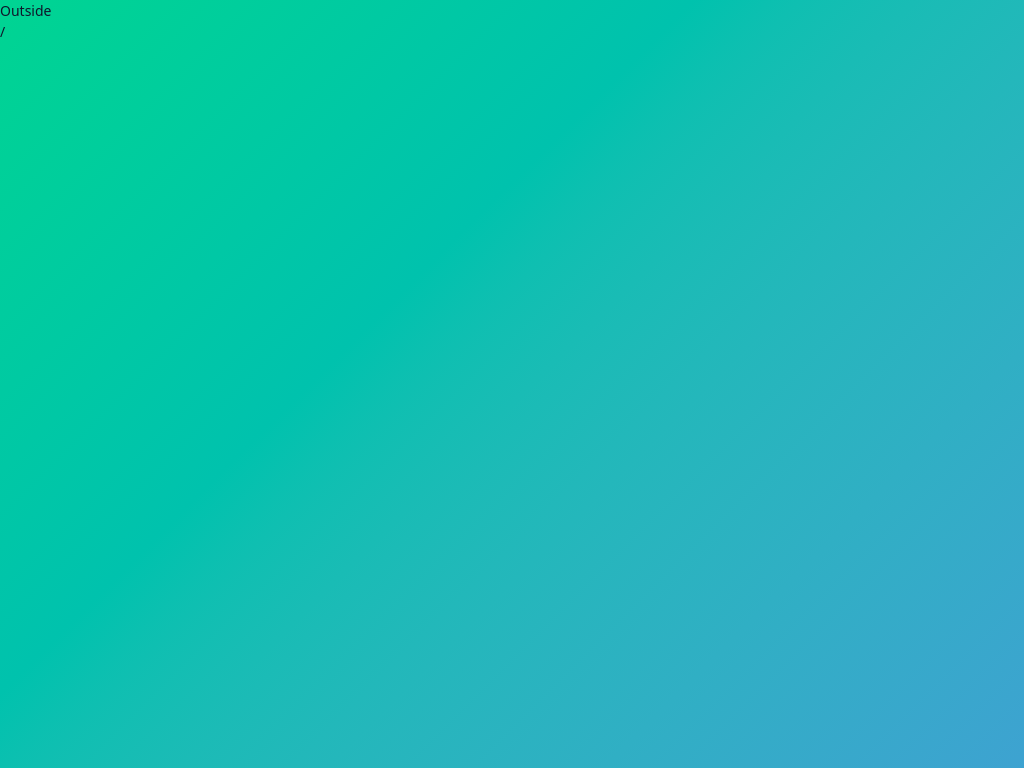
Scenario: SiteSearchModal › should navigate to the result selected with the arrow keys
Press k
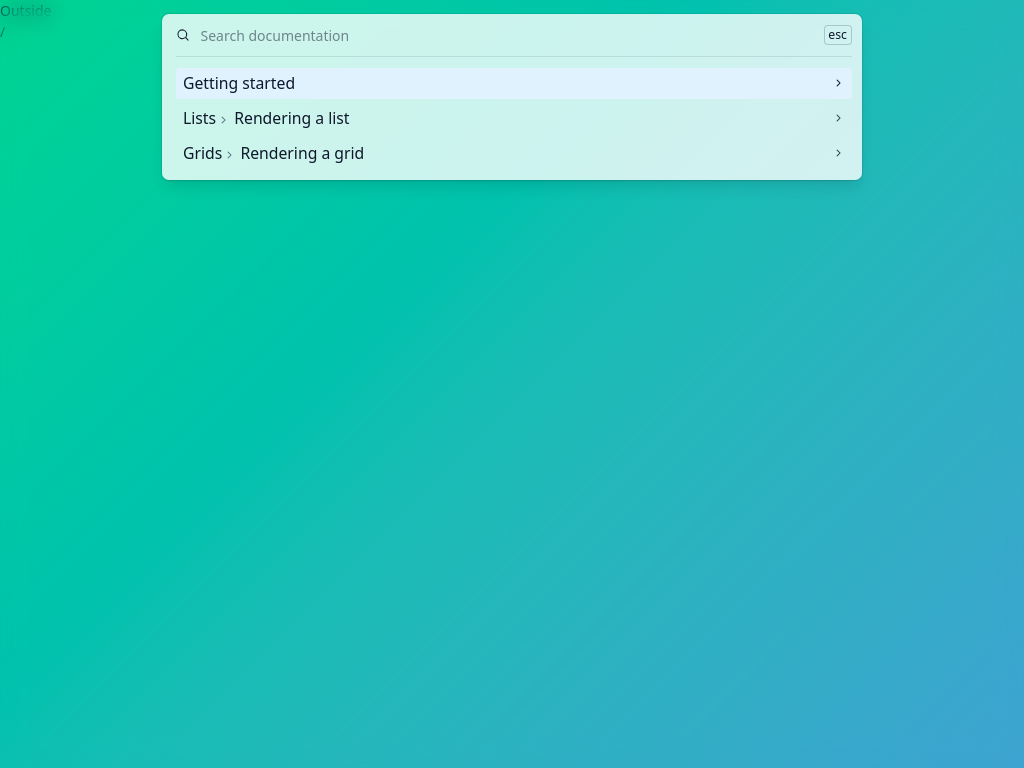
Type "cell" into the dropdown labelled "Search documentation".
click(507, 35); type("cell")  # box [200,24,813,46]
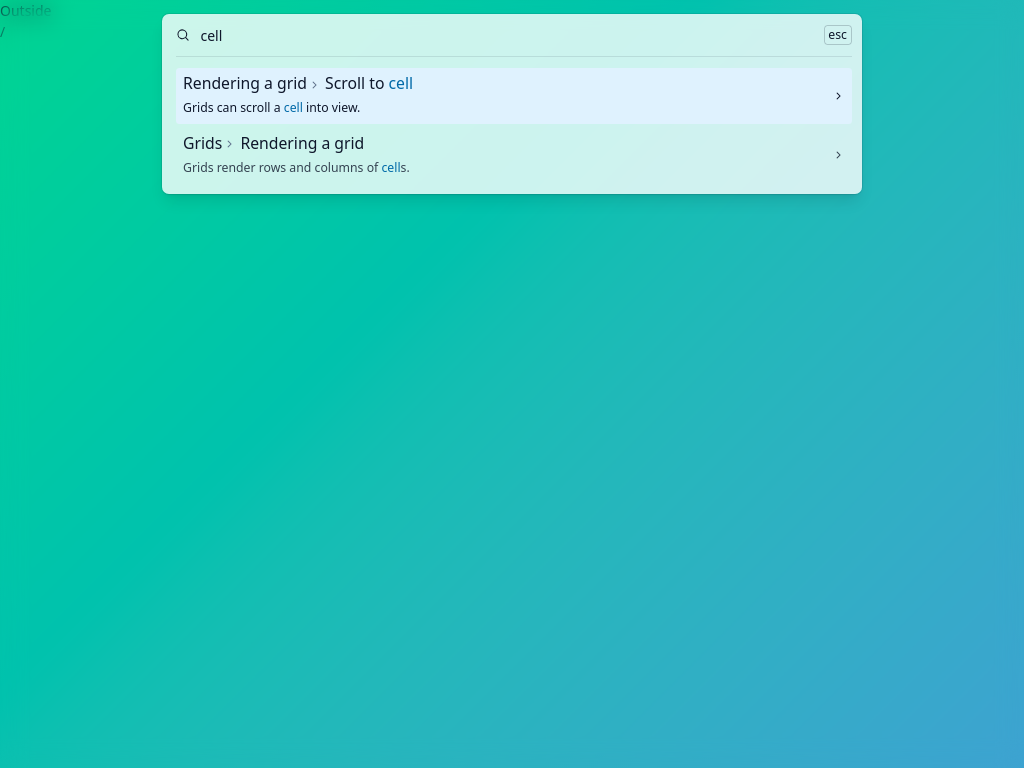
Press ArrowDown in the dropdown named "Search documentation", box [200,24,813,46]
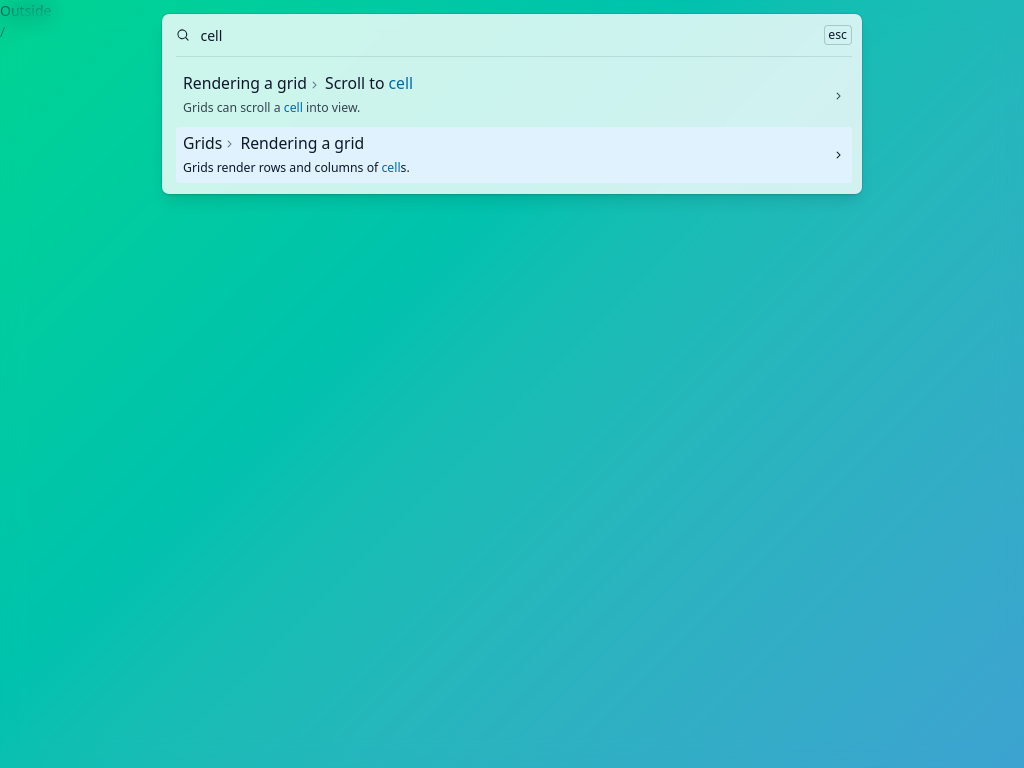
Expected: the option that starts with "Grids" is selected, [176,127,852,183]
Press Enter in the dropdown named "Search documentation", box [200,24,813,46]
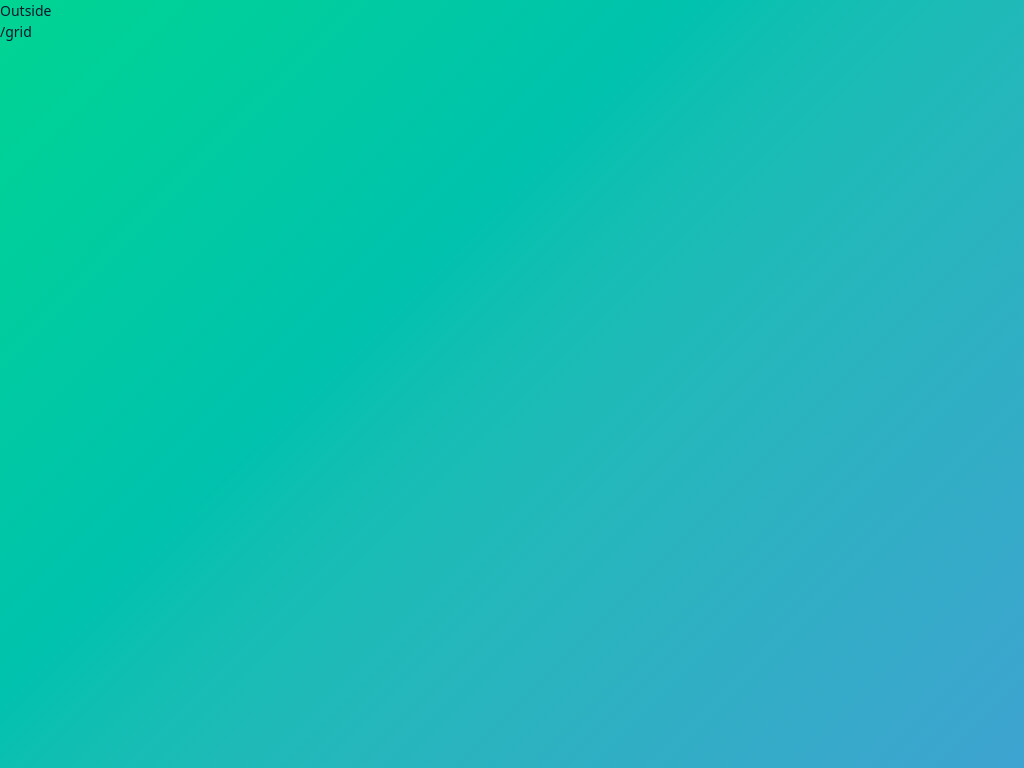
Expected: the dialog "Search documentation" is not shown
Expected: the text with test id "location" reads "/grid", [0,22,32,41]
